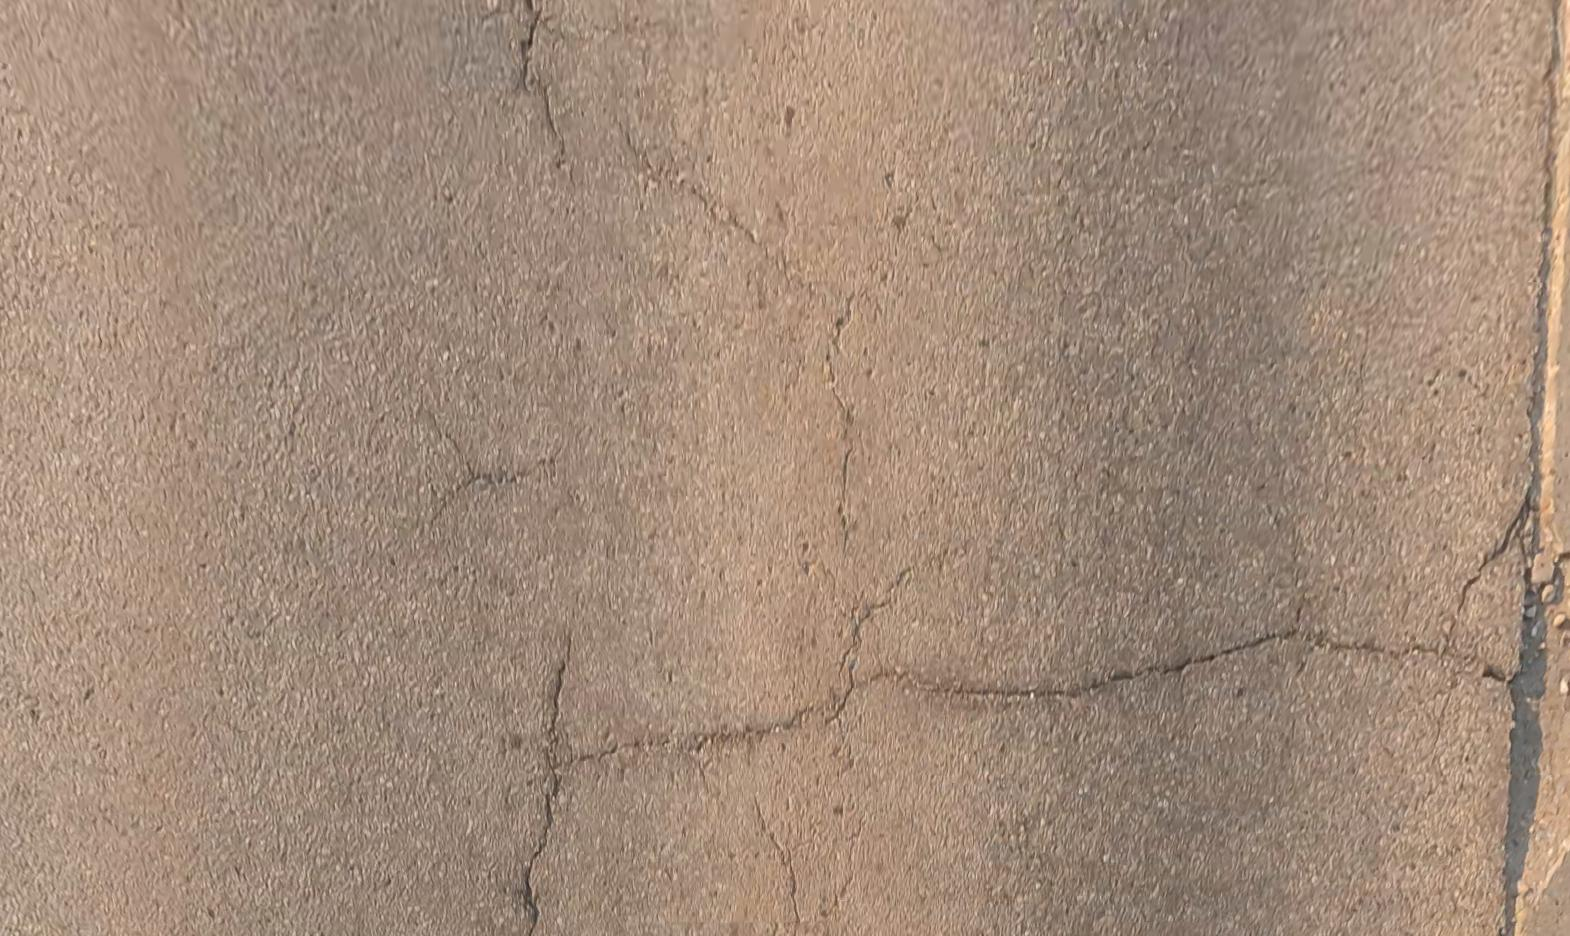pothole: (1508, 549, 1570, 934), (1551, 113, 1570, 318)
